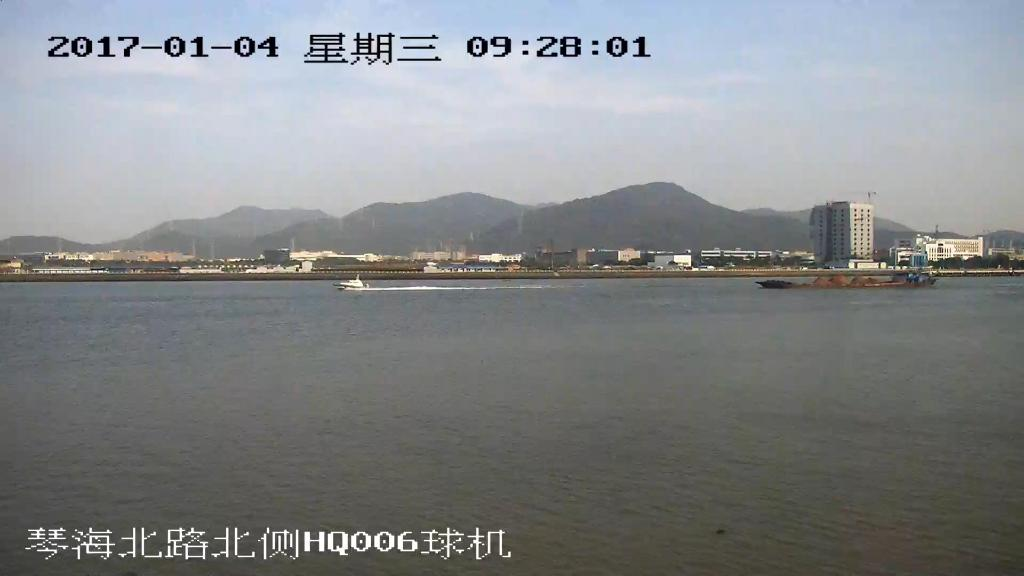PassengerShip: (335, 272, 373, 293)
